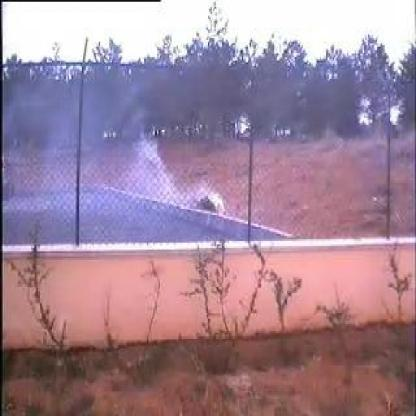-: (15, 76, 172, 242)
